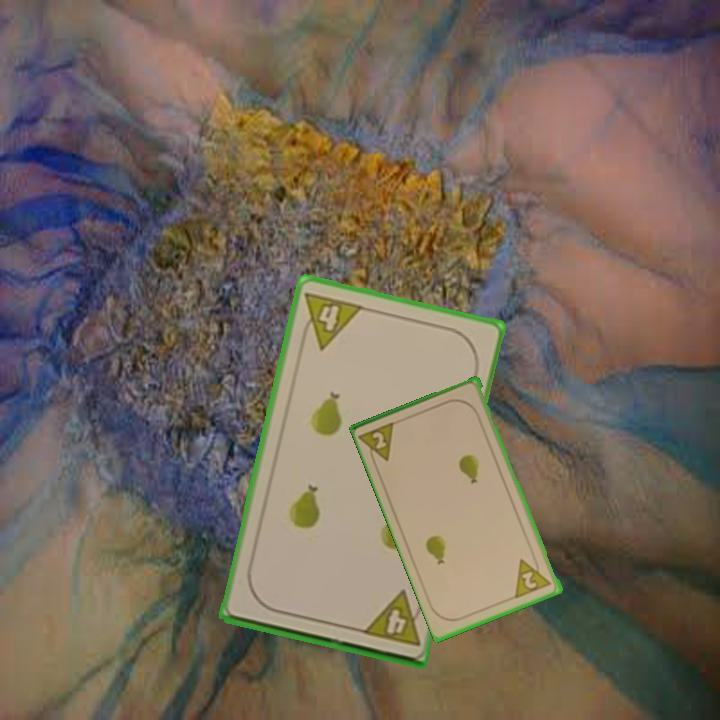2p: (357, 418, 400, 469), (512, 552, 555, 601)
4p: (296, 288, 366, 353), (358, 587, 427, 649)
